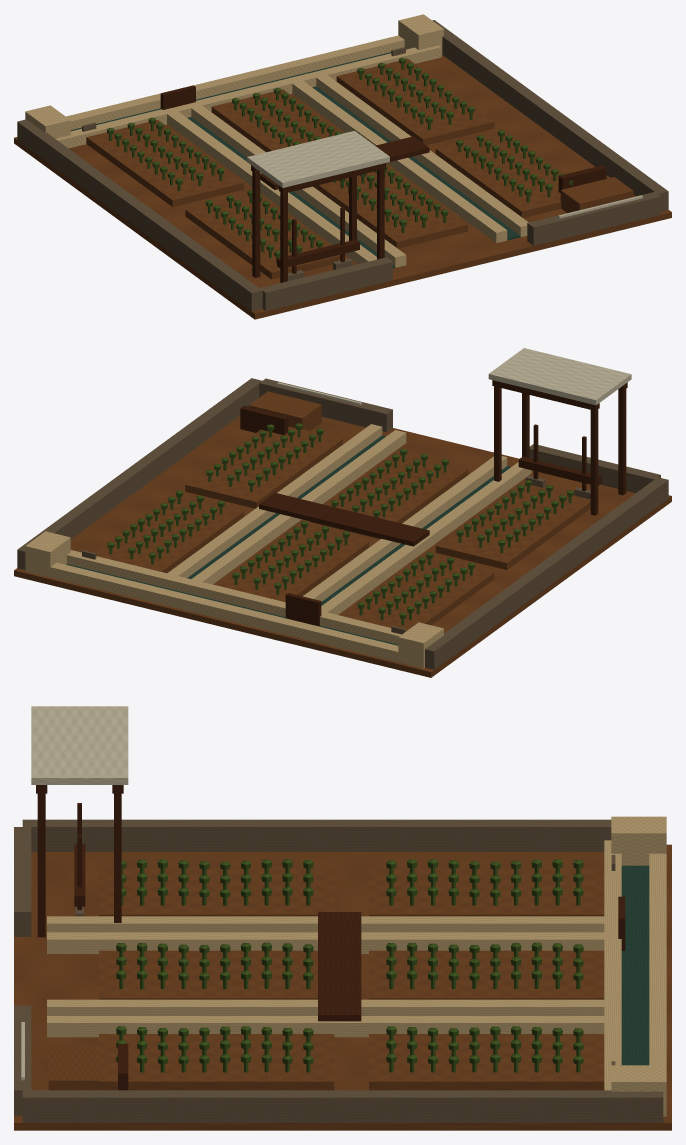
Rendered from Berber_Farm_Age4_untouched.fbx.
The picture shows the model from 3 angles, top to bottom: view 1: azimuth 30°, elevation 25°; view 2: azimuth 150°, elevation 25°; view 3: azimuth 270°, elevation 25°; orthographic projection. The views are drawn at different scales.
Visible parts, largest first — view 1: flat_earth_plot, low_side_edging, low_side_edging.001, raised_bed_0_1, raised_bed_2_1, raised_bed_2_0, header_channel_bank.001, raised_bed_1_0, woven_tool_shade, raised_bed_0_0, branch_channel_bank.002, header_channel_bank (+21 smaller); view 2: flat_earth_plot, low_side_edging, header_channel_bank.001, low_side_edging.001, raised_bed_0_0, raised_bed_2_0, raised_bed_2_1, raised_bed_1_1, raised_bed_0_1, woven_tool_shade, header_channel_bank, raised_bed_1_0 (+21 smaller); view 3: flat_earth_plot, low_side_edging.001, low_side_edging, raised_bed_2_1, raised_bed_2_0, raised_bed_0_1, raised_bed_1_1, raised_bed_0_0, branch_channel_bank.003, branch_channel_bank.002, branch_channel_bank.001, branch_channel_bank (+13 smaller).
Part boxes in pixels (box(x1,y1,x2,y2)): flat_earth_plot: box(14, 55, 671, 319); low_side_edging: box(17, 119, 262, 311); low_side_edging.001: box(432, 20, 668, 211); raised_bed_0_1: box(86, 120, 243, 206); raised_bed_2_1: box(336, 59, 494, 145); raised_bed_2_0: box(435, 131, 565, 217); header_channel_bank.001: box(66, 35, 404, 129); raised_bed_1_0: box(313, 165, 467, 248); woven_tool_shade: box(247, 131, 389, 187); raised_bed_0_0: box(185, 194, 340, 279); branch_channel_bank.002: box(292, 81, 507, 243); header_channel_bank: box(56, 45, 441, 148); flat_earth_plot: box(14, 416, 671, 677); low_side_edging: box(425, 477, 668, 669); header_channel_bank.001: box(30, 562, 418, 666); low_side_edging.001: box(17, 378, 262, 569); raised_bed_0_0: box(435, 483, 590, 569); raised_bed_2_0: box(185, 426, 342, 508); raised_bed_2_1: box(93, 494, 243, 573); raised_bed_1_1: box(215, 524, 369, 602); raised_bed_0_1: box(340, 555, 494, 631); woven_tool_shade: box(488, 348, 631, 405); header_channel_bank: box(67, 550, 401, 644); raised_bed_1_0: box(310, 452, 467, 539); flat_earth_plot: box(14, 844, 671, 1130); low_side_edging.001: box(22, 1090, 663, 1122); low_side_edging: box(22, 819, 611, 851); raised_bed_2_1: box(369, 1034, 604, 1090); raised_bed_2_0: box(99, 1034, 334, 1090); raised_bed_0_1: box(369, 867, 604, 916); raised_bed_1_1: box(369, 950, 604, 999); raised_bed_0_0: box(99, 867, 334, 916); branch_channel_bank.003: box(47, 1016, 604, 1037); branch_channel_bank.002: box(47, 999, 604, 1015); branch_channel_bank.001: box(47, 932, 604, 953); branch_channel_bank: box(47, 916, 604, 932).
Size of the model in its own units: 380 by 108 by 380.
7 materials, 7 textured.
